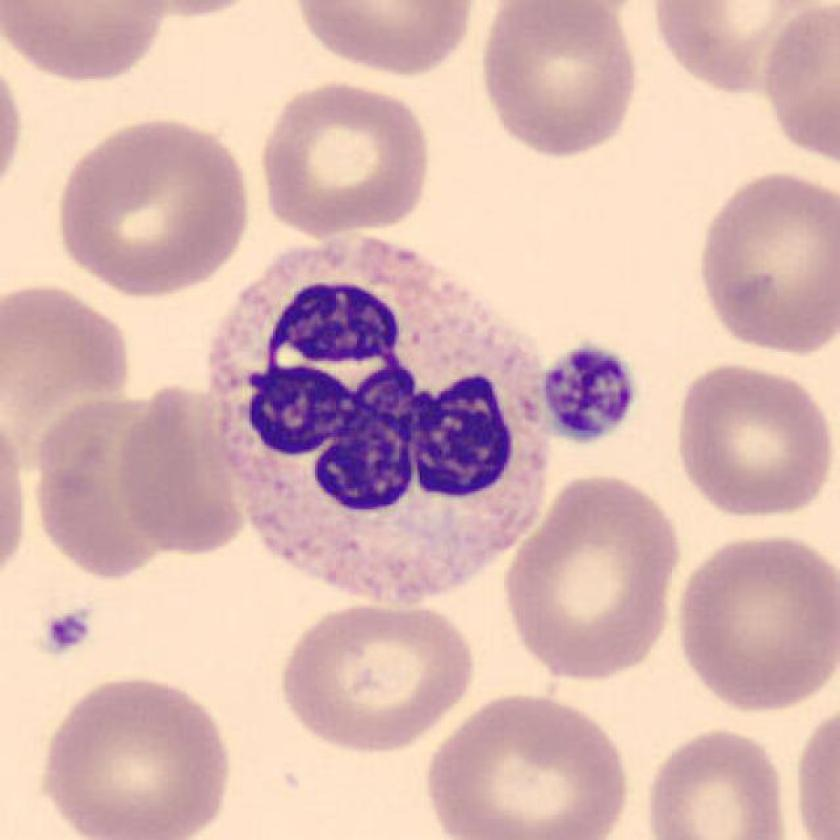neutrophil: (210, 237, 550, 606)
